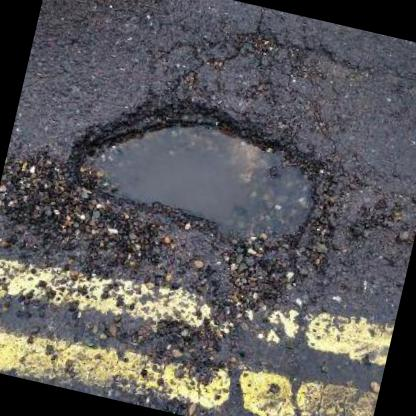pothole: (52, 72, 353, 277)
